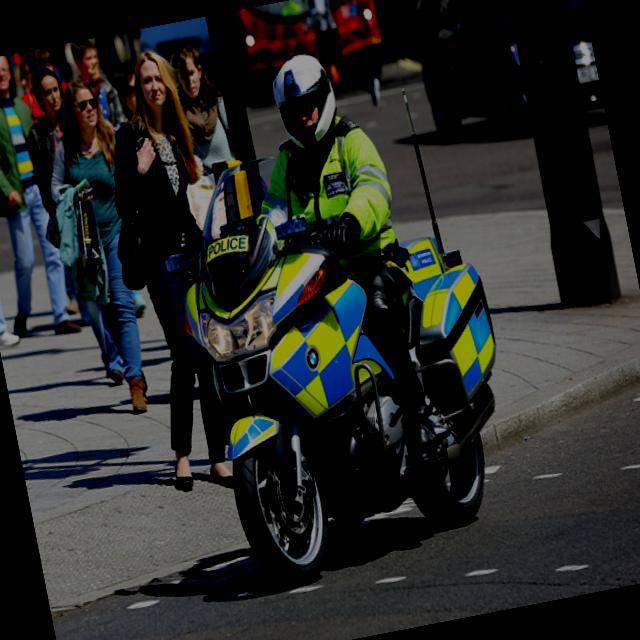Vehicle: (145, 82, 538, 594), (402, 0, 606, 151), (226, 0, 390, 102)
